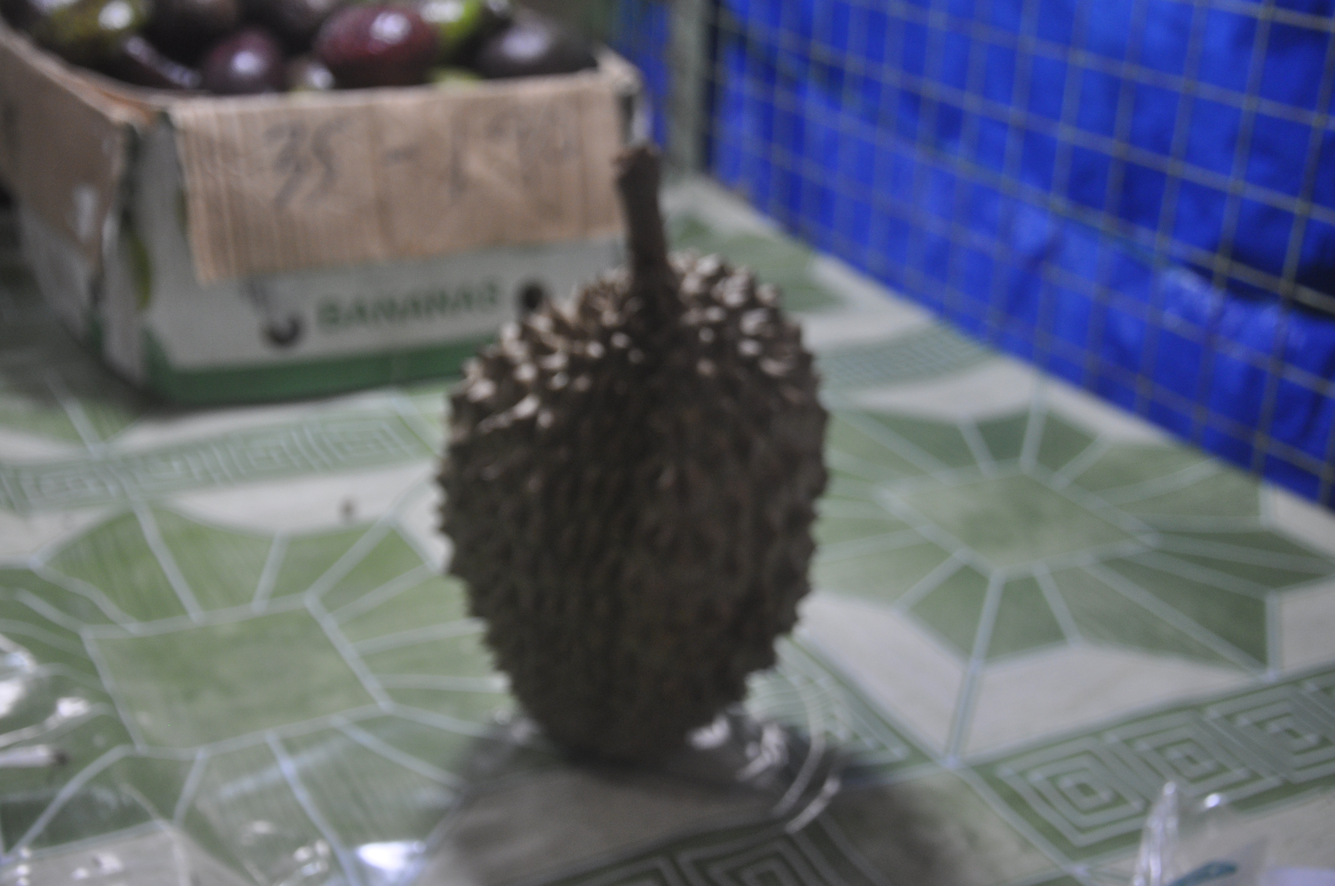mature: (440, 147, 827, 760)
